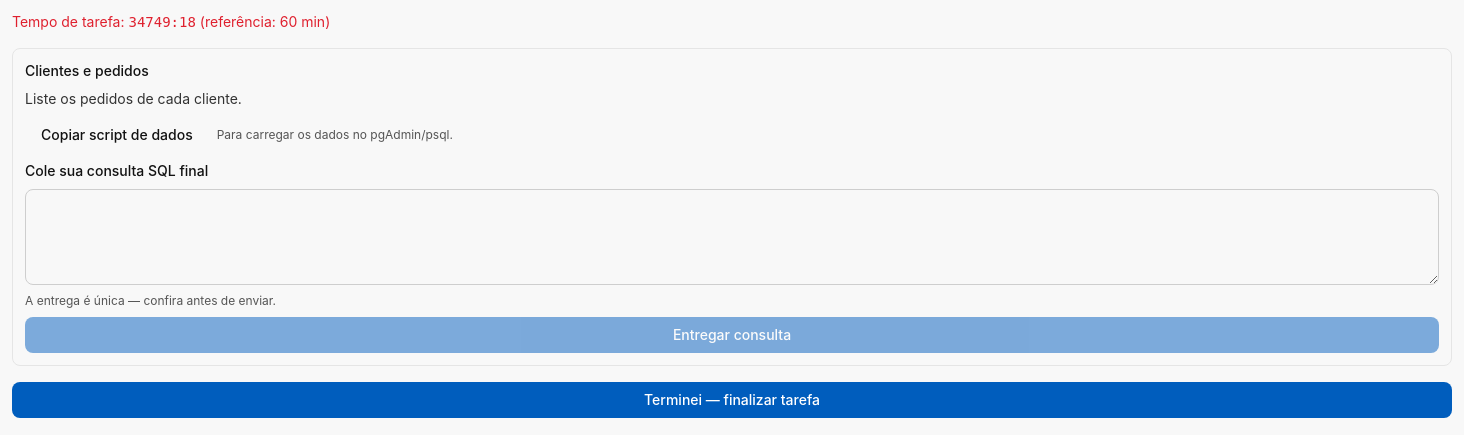
Test case: SessaoForm › grupo controle entrega a consulta e não vê se acertou
The width and height of the screenshot is (1464, 435).
Type "SELECT * FROM cliente" into the text box labelled "Cole sua consulta SQL final" at {"x": 732, "y": 237}, box [25,189,1439,285]
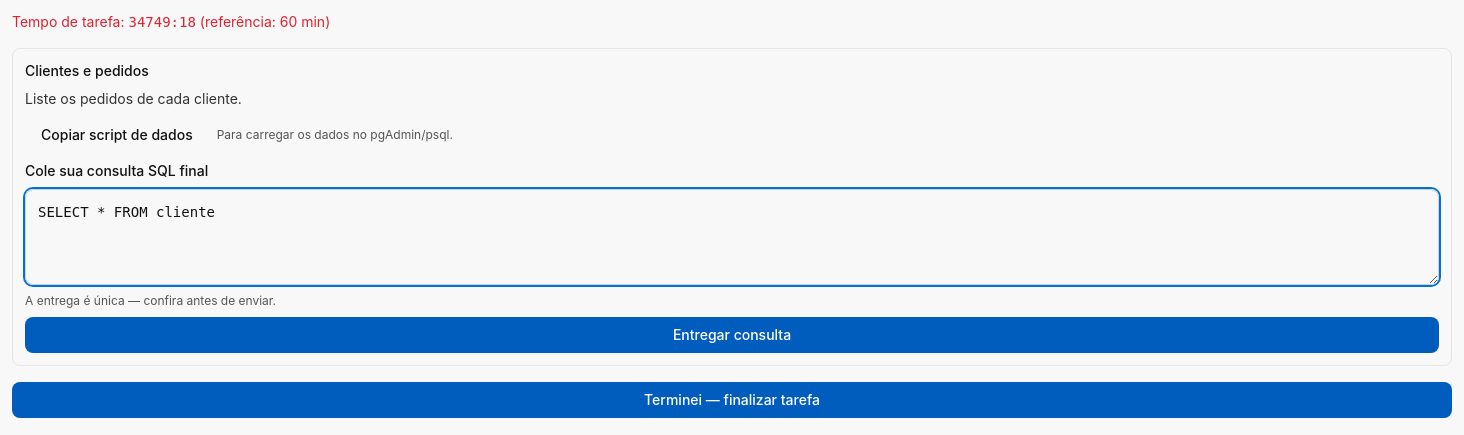
Click the button "Entregar consulta" at {"x": 732, "y": 335}, box [25,317,1439,353]
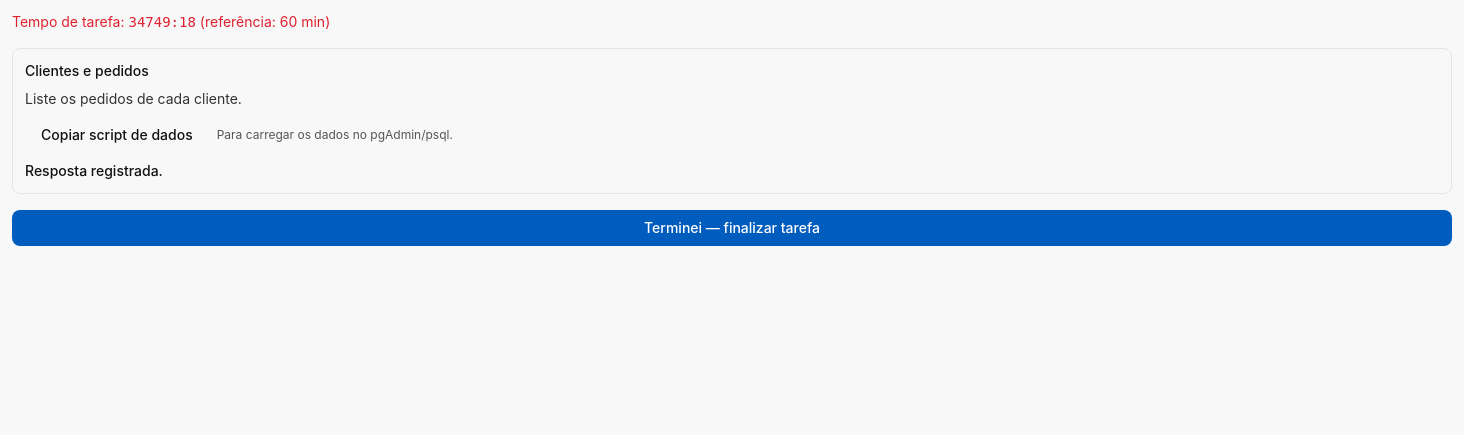
Expected: the text "Resposta registrada." is shown, [25,162,163,179]
